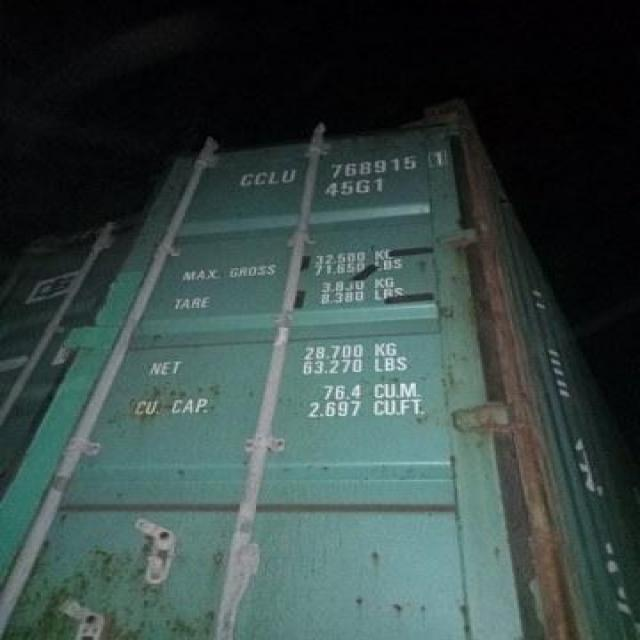ISO: (328, 179, 385, 199)
container_number: (238, 146, 454, 193)
